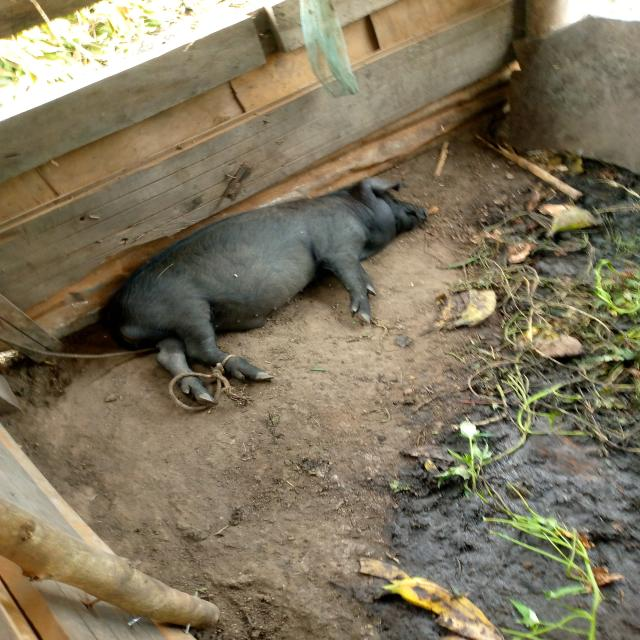pig: (62, 125, 462, 430)
